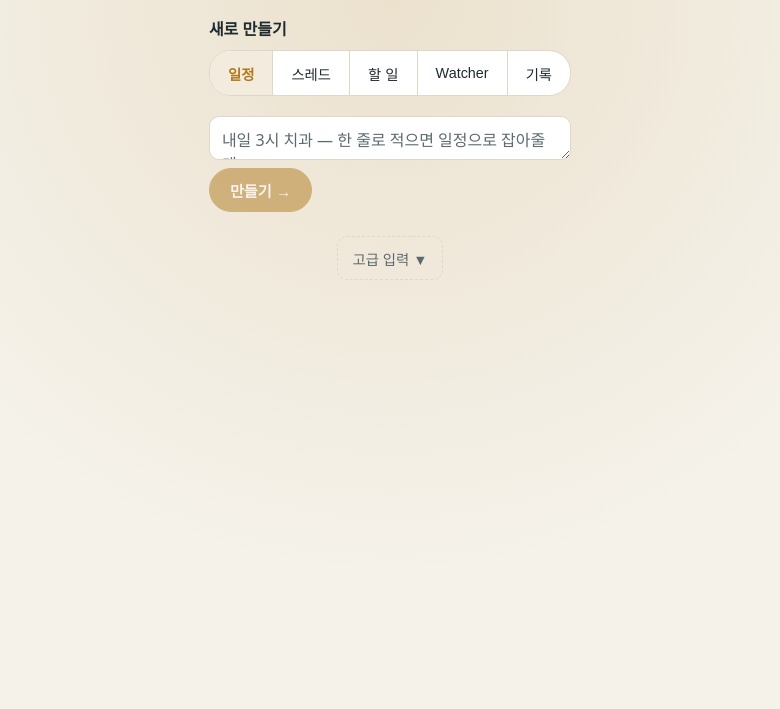
InputHub — event form › shows error when event form missing required field
The width and height of the screenshot is (780, 709).
Check: the element with test id "input-quiet" is shown, box x1=209 y1=18 x2=571 y2=280
Click the button "고급 입력 ▼". click: (390, 258)
box: x1=337 y1=236 x2=443 y2=280
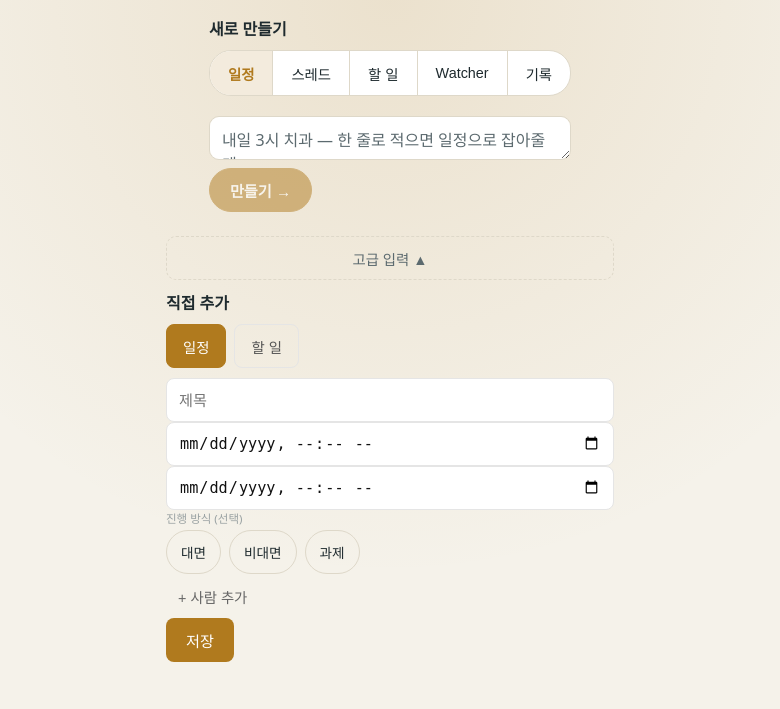
Type "title only" into the field named "일정 제목". click: (390, 400)
box: x1=166 y1=378 x2=614 y2=422
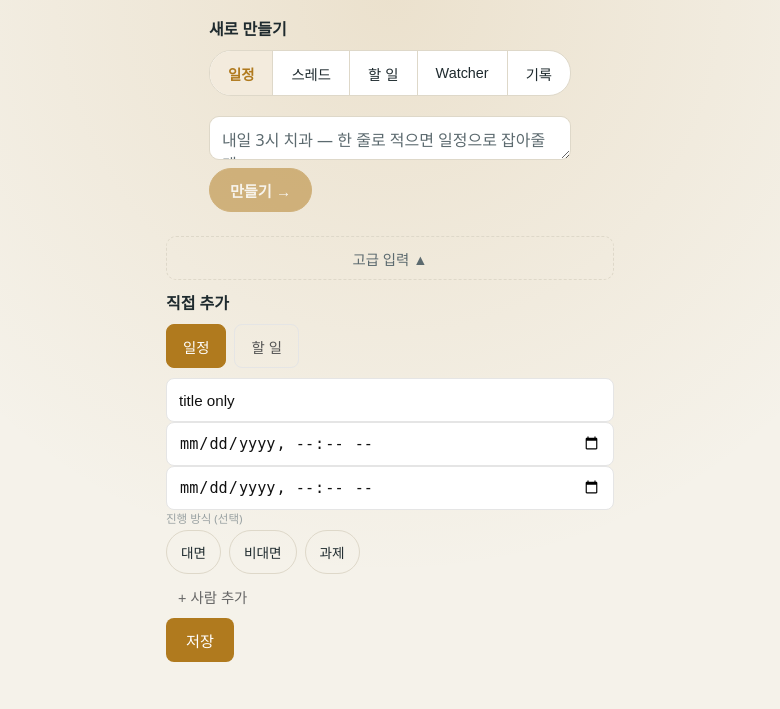
Click the button with aria-label "일정 저장". click: (200, 640)
box: x1=166 y1=618 x2=234 y2=662
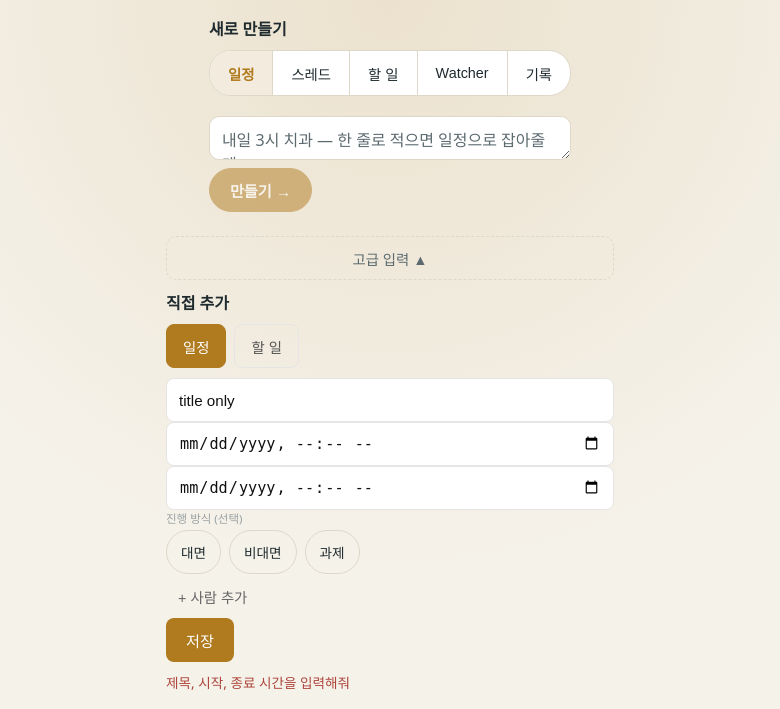
Check: the message "제목, 시작, 종료 시간을 입력해줘" is shown, box x1=166 y1=673 x2=350 y2=692
